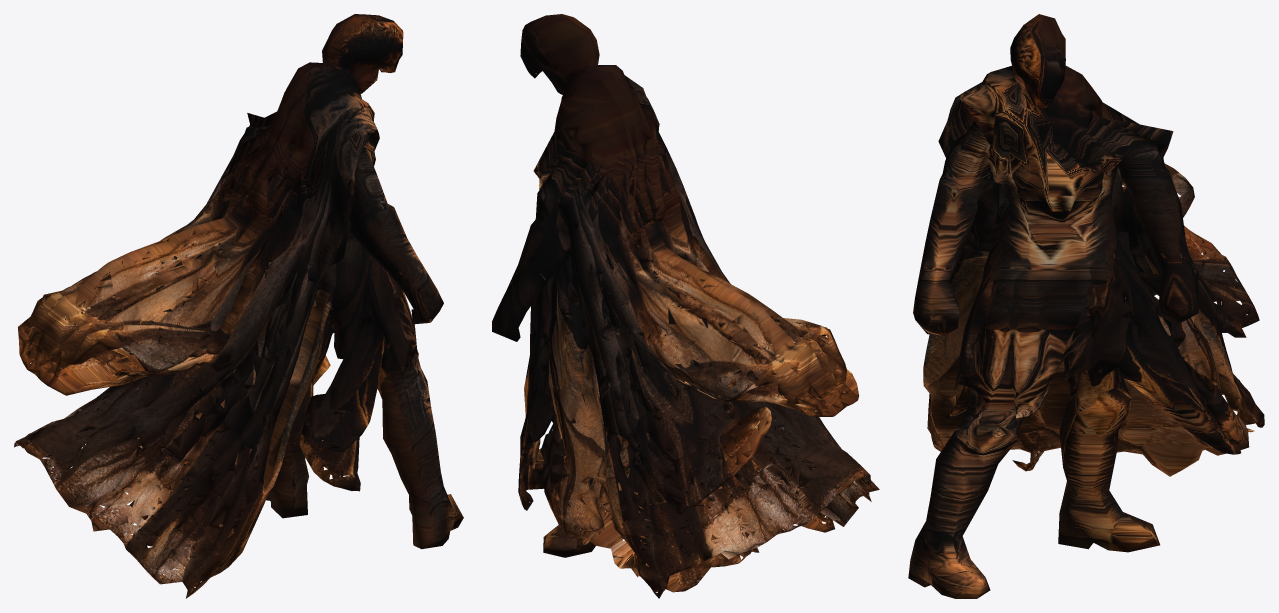
The model's file is paul.glb.
3 renders of one model, left to right at view 1: azimuth 30°, elevation 25°; view 2: azimuth 150°, elevation 25°; view 3: azimuth 270°, elevation 25°, orthographic. The views are drawn at different scales.
Parts seen in each view (by area): view 1: PaulAtreides; view 2: PaulAtreides; view 3: PaulAtreides.
Part boxes in pixels (left/top/right/bottom): PaulAtreides: left=14, top=14, right=463, bottom=598; PaulAtreides: left=492, top=14, right=879, bottom=598; PaulAtreides: left=908, top=14, right=1264, bottom=598.
Size of the model in its own units: 1.6 by 1.96 by 1.14.
1 material, 1 textured.
